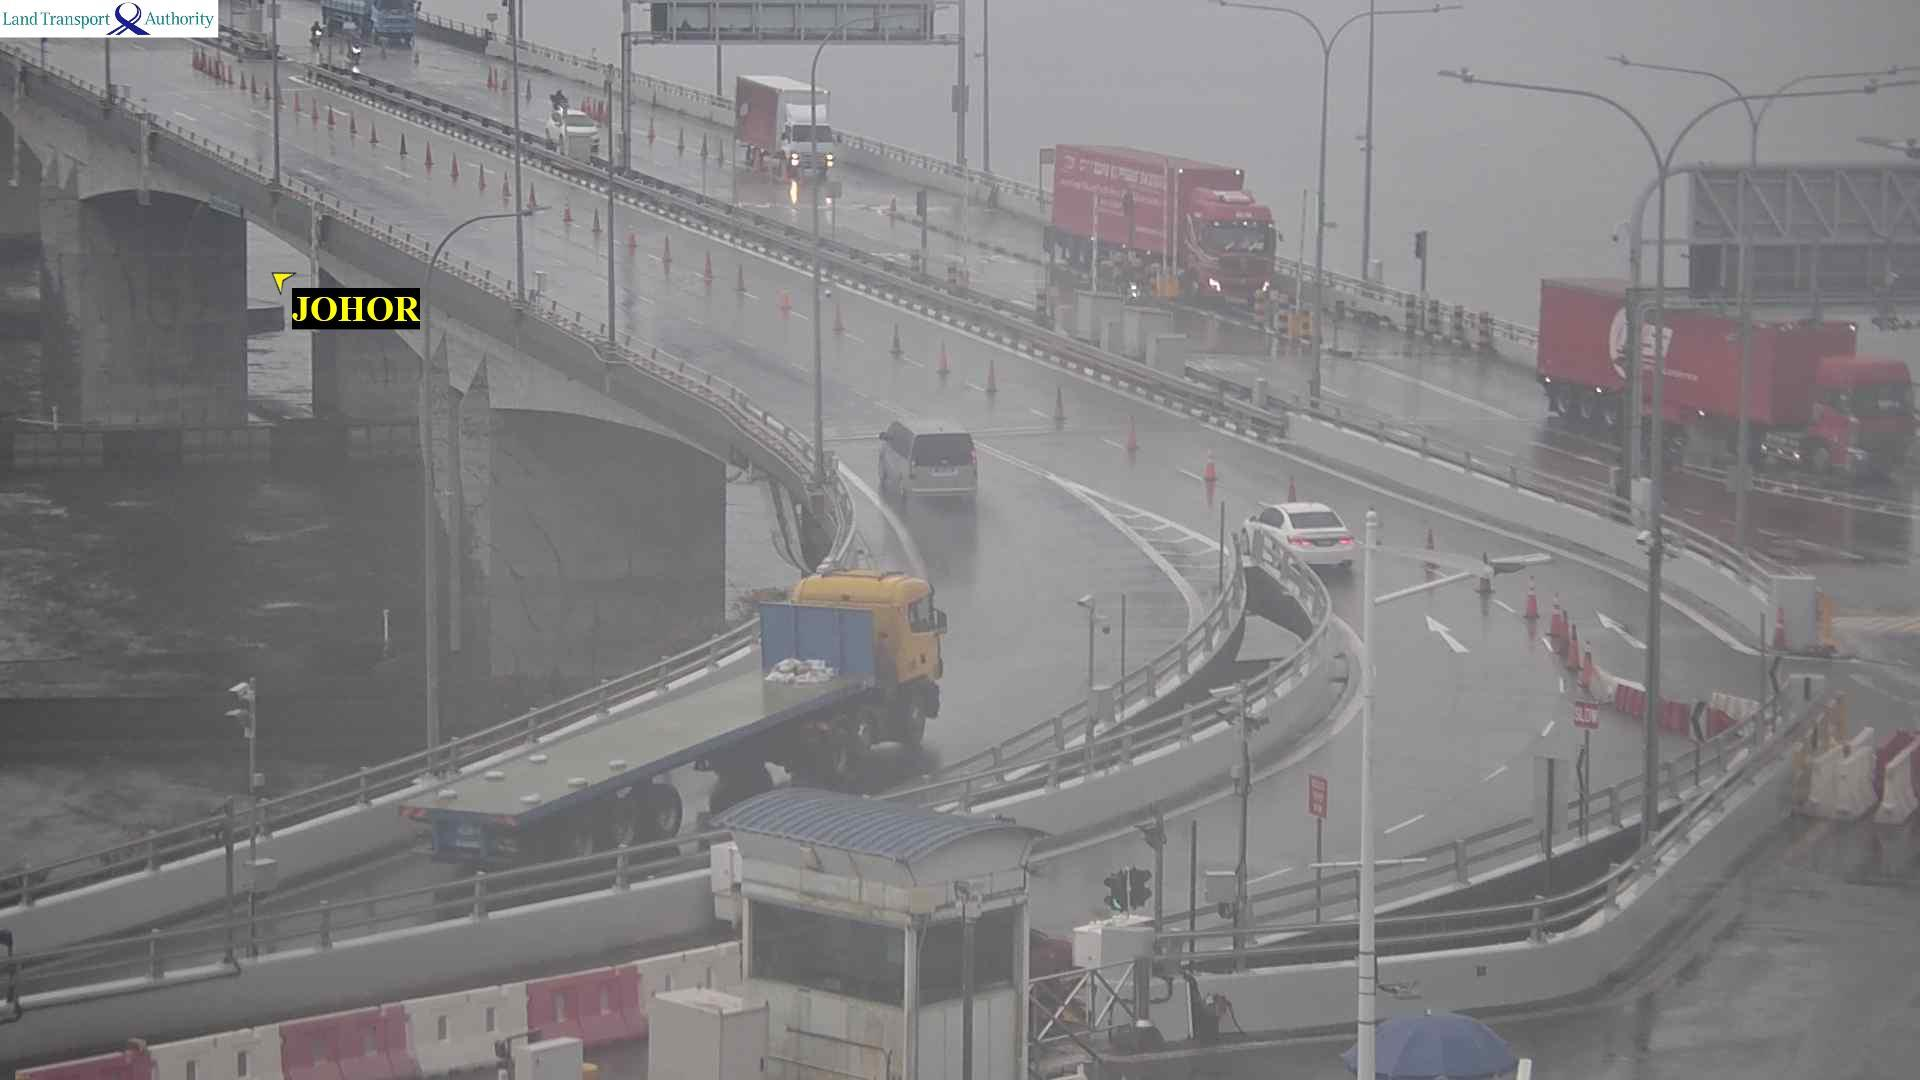vehicle-secondlink-johor: (771, 570, 940, 691), (1247, 506, 1362, 577)
vehicle-secondlink-singapore: (1531, 285, 1917, 461), (1043, 141, 1281, 295), (745, 76, 848, 176), (552, 114, 598, 149), (349, 31, 364, 69), (549, 85, 568, 108), (312, 19, 319, 45)
